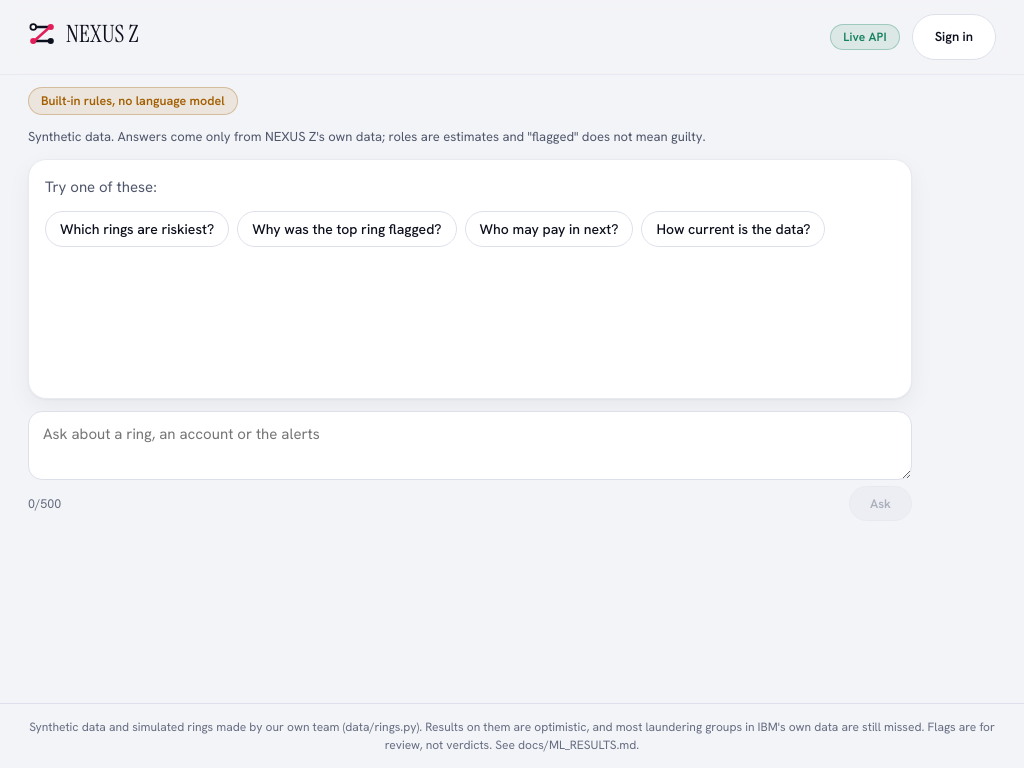
Test: the assistant page › an answer by the rules says so and why
The width and height of the screenshot is (1024, 768).
expect the text "Built-in rules, no language model" is shown: met, box [28,86,238,115]
In the text box named "Your question": x=470, y=446 [28,411,912,480], type "Which rings are riskiest?"
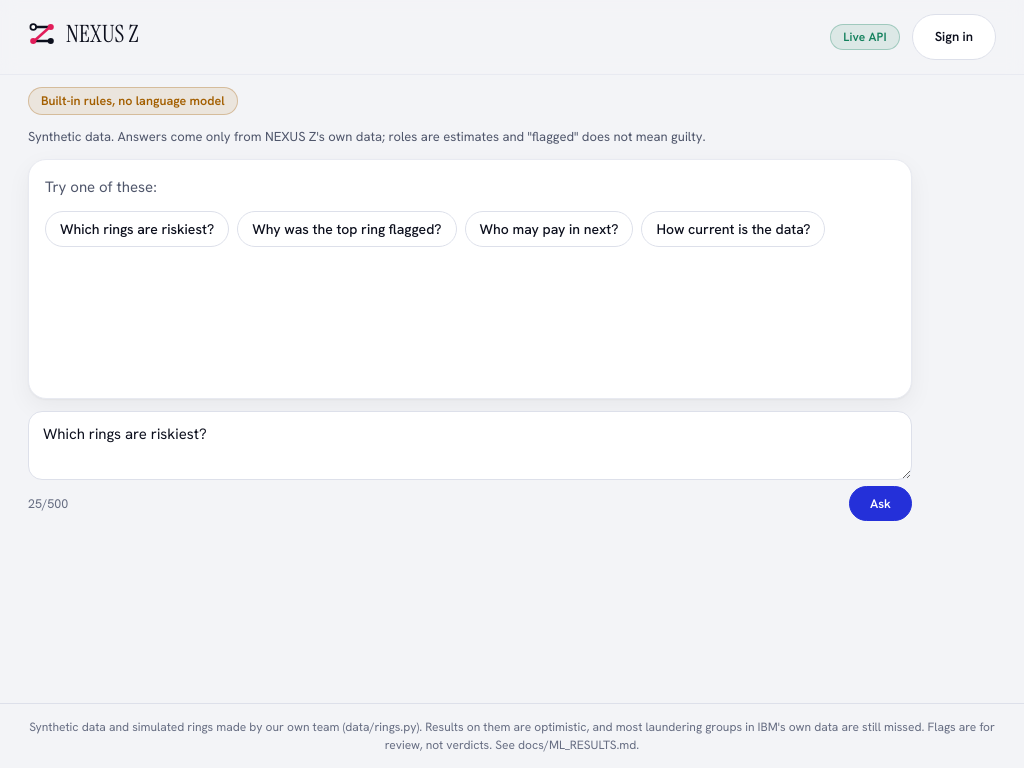
Click the button "Ask": x=880, y=504 [849,486,912,521]
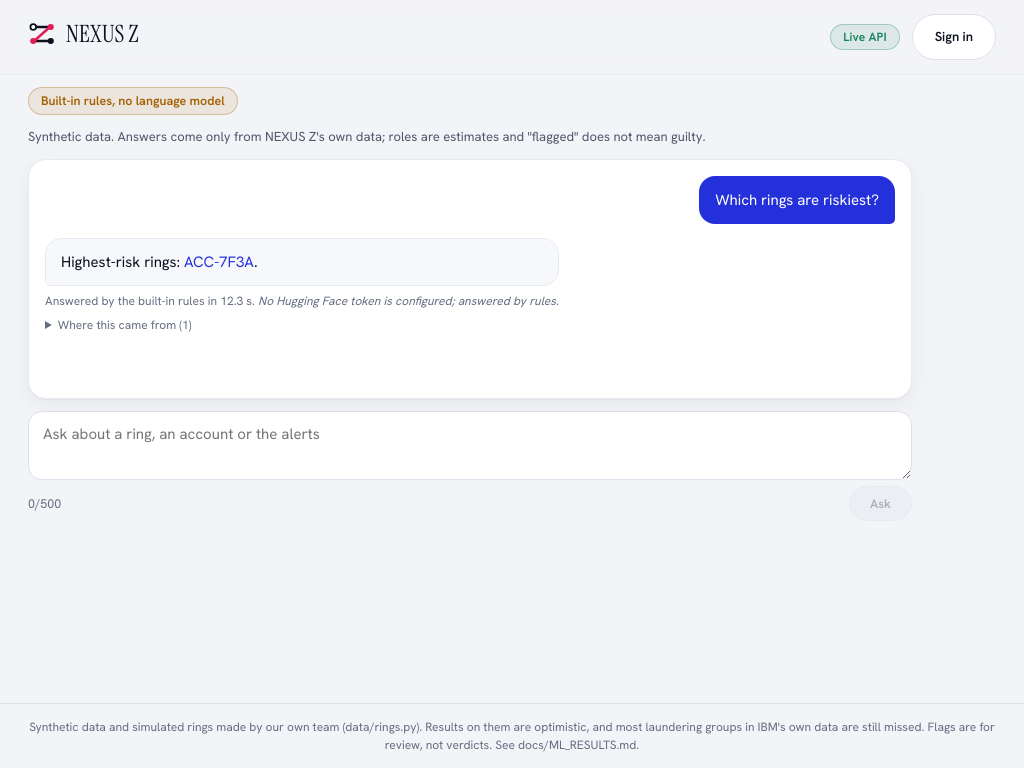
expect the text "Answered by the built-in rules in 12.3 s." is shown: met, box [45,293,255,309]
expect the text "No Hugging Face token is configured; answered by rules." is shown: met, box [255,293,559,309]
